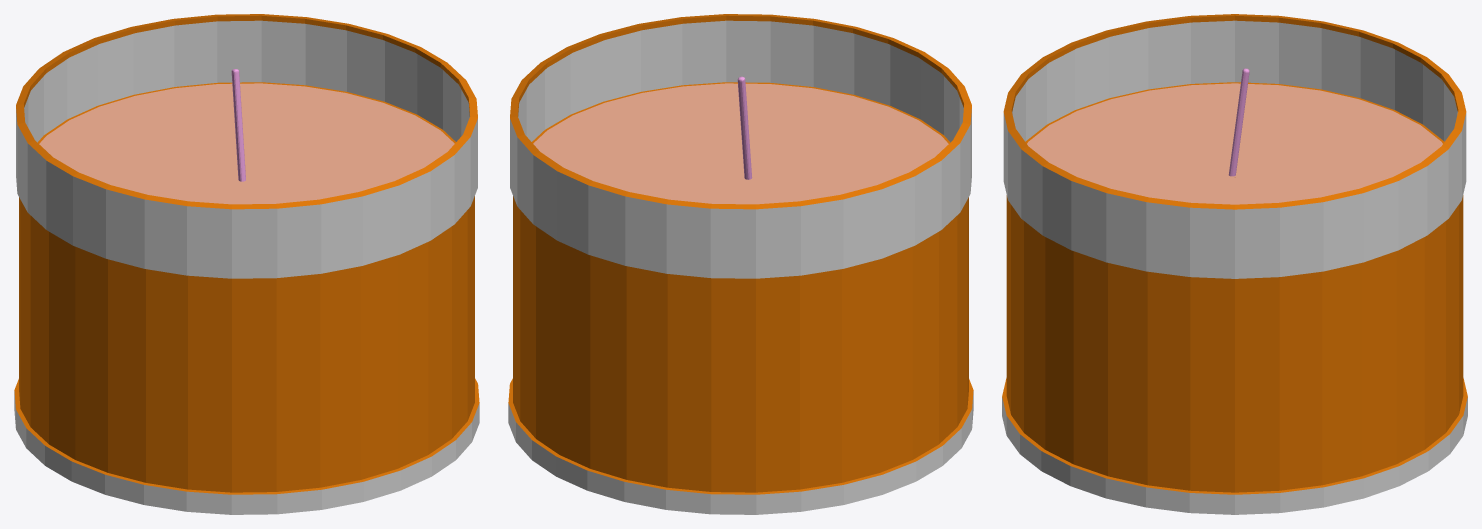
The model's file is 7eb1fcda-5e9c-4860-b0a5-78859a7050b6.glb.
3 renders of one model, left to right at view 1: azimuth 30°, elevation 25°; view 2: azimuth 150°, elevation 25°; view 3: azimuth 270°, elevation 25°, orthographic.
Visible parts, largest first — view 1: Cylinder002, Box002; view 2: Cylinder002, Box002; view 3: Cylinder002, Box002.
Part boxes in pixels (x1,y1,x2,y2): Cylinder002: (14,14,479,514); Box002: (231,69,245,181); Cylinder002: (508,14,973,514); Box002: (737,76,752,179); Cylinder002: (1002,14,1467,514); Box002: (1228,68,1249,176).
Size of the model in its own units: 293374 by 240498 by 293374.
